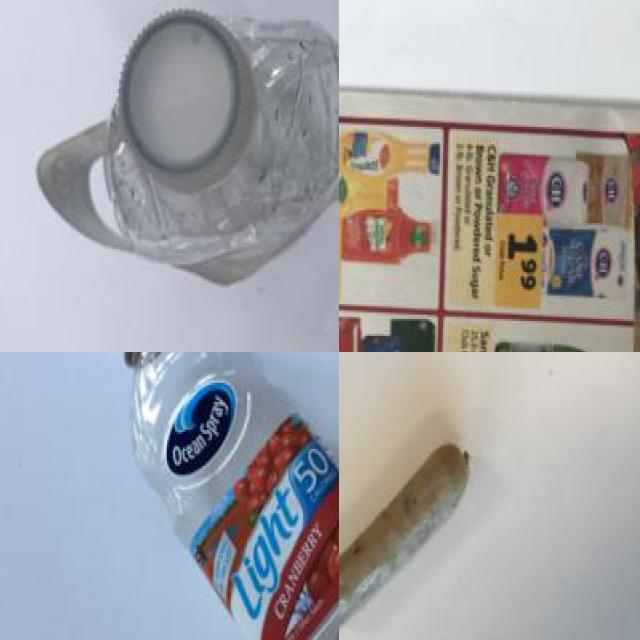compost: (339, 362, 494, 640)
paper: (339, 68, 640, 352)
plastic: (32, 0, 339, 296), (107, 352, 339, 640)
